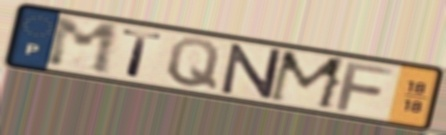F: (333, 59, 397, 113)
M: (265, 48, 350, 113), (44, 15, 121, 78)
N: (219, 41, 284, 101)
Q: (164, 36, 223, 92)
T: (120, 27, 166, 80)
